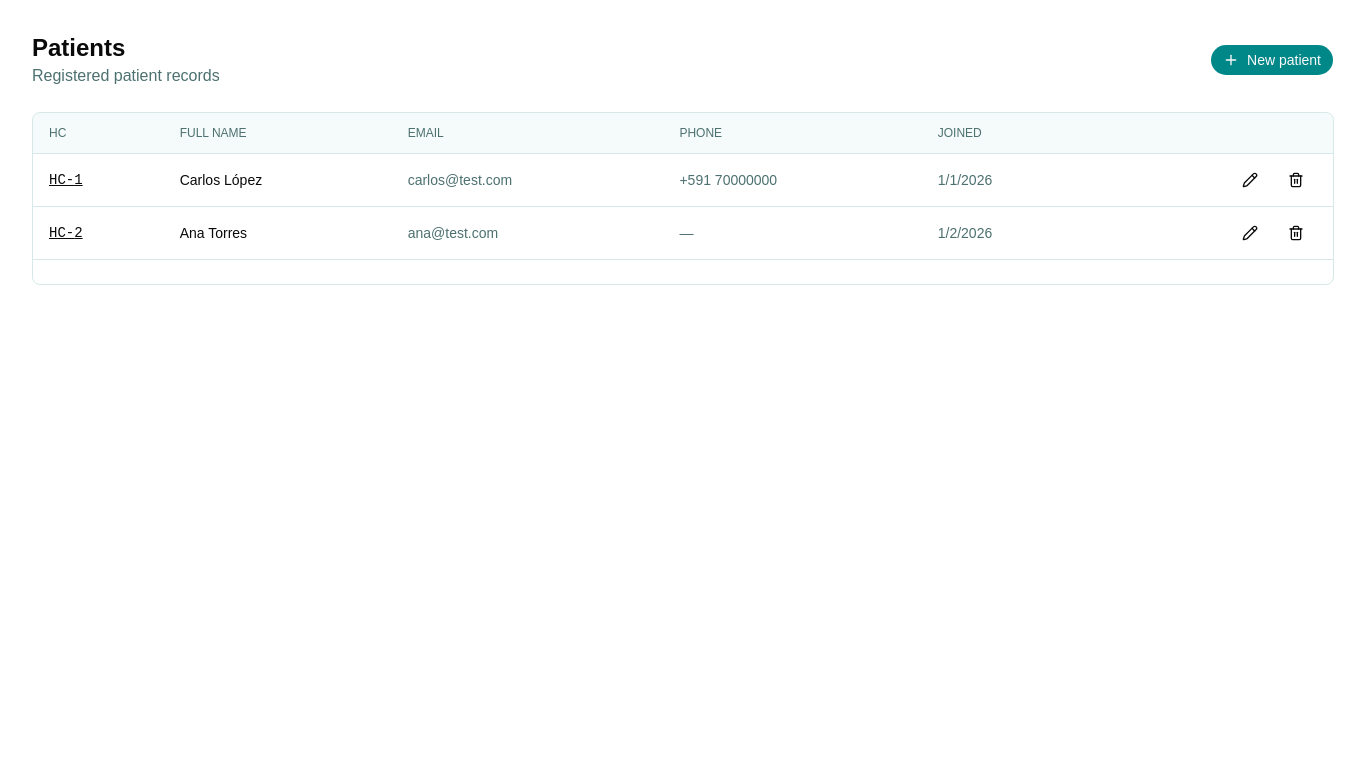
Test: PatientsPage › as admin › opens create dialog with password field when clicking New patient
Click the button "New patient" at (1272, 60), box [1210, 44, 1334, 76]
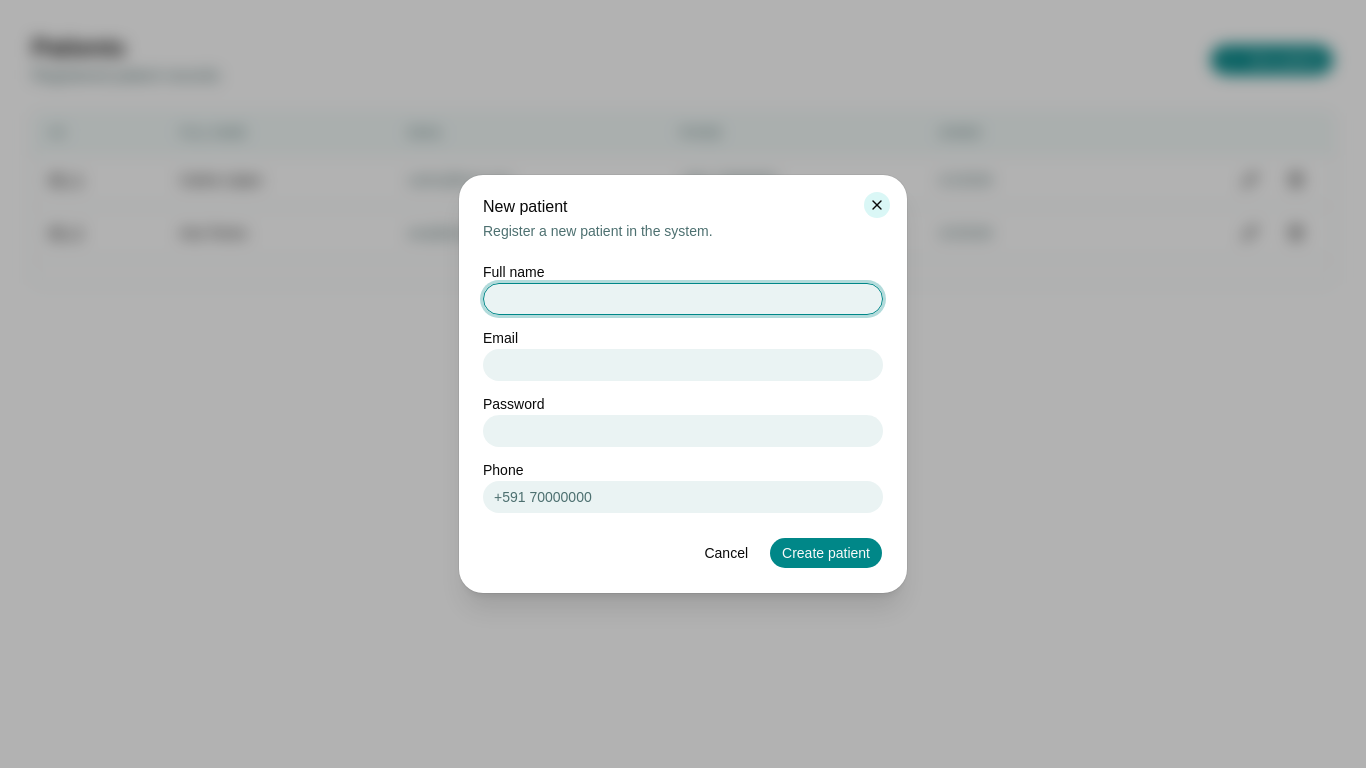
Expected: the heading "New patient" is shown, [483, 198, 568, 215]
